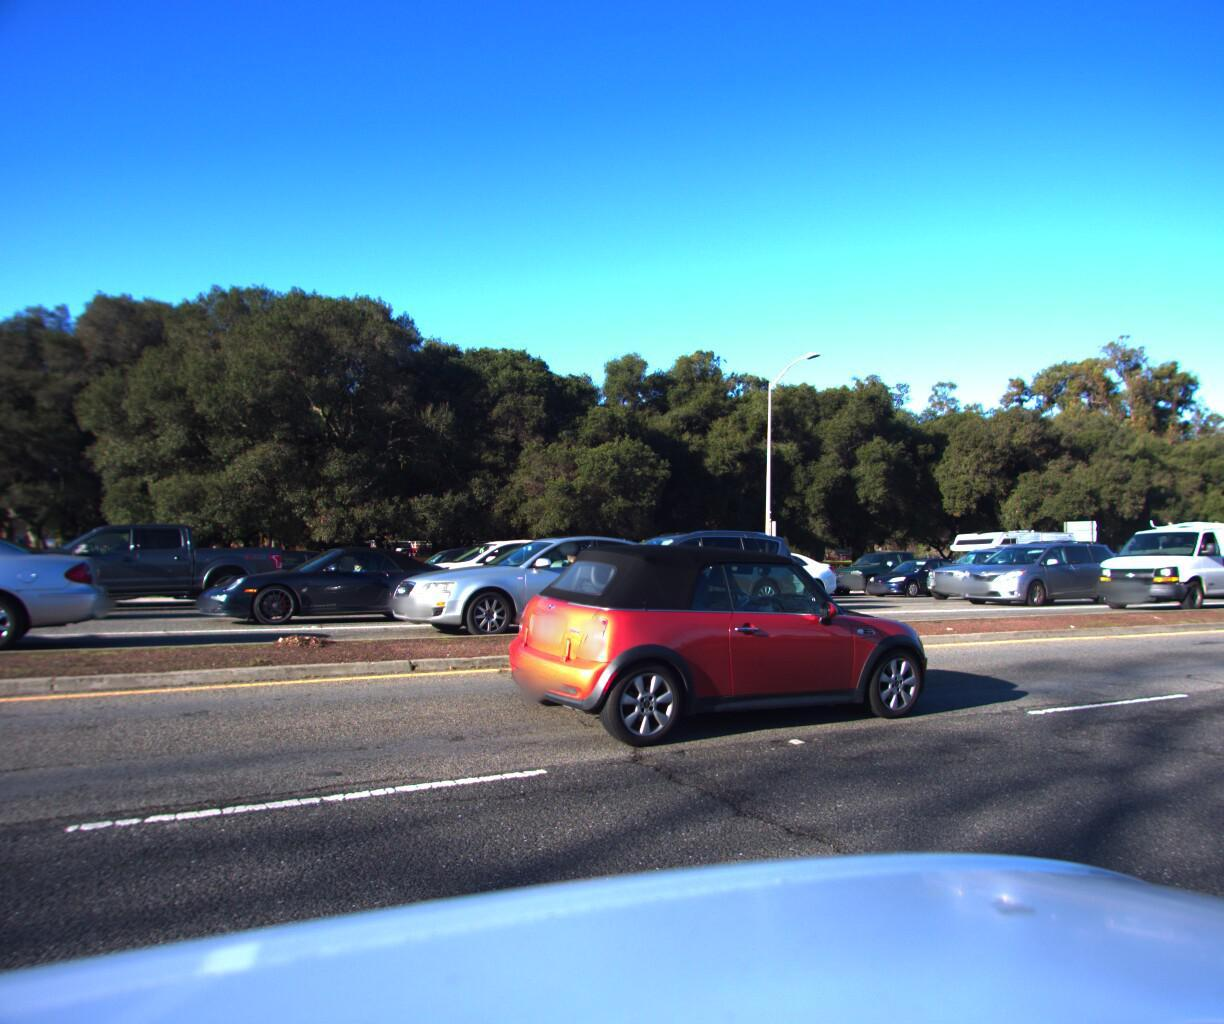car: (493, 536, 934, 755), (373, 524, 731, 636), (188, 534, 484, 628), (558, 518, 815, 617), (394, 529, 599, 605), (1076, 510, 1224, 612), (948, 533, 1124, 604), (173, 541, 357, 603), (666, 544, 844, 605), (914, 537, 1062, 597), (379, 542, 538, 598), (857, 553, 979, 595), (824, 545, 936, 590), (1204, 546, 1224, 592)
other_vehicle: (940, 524, 1083, 589)
